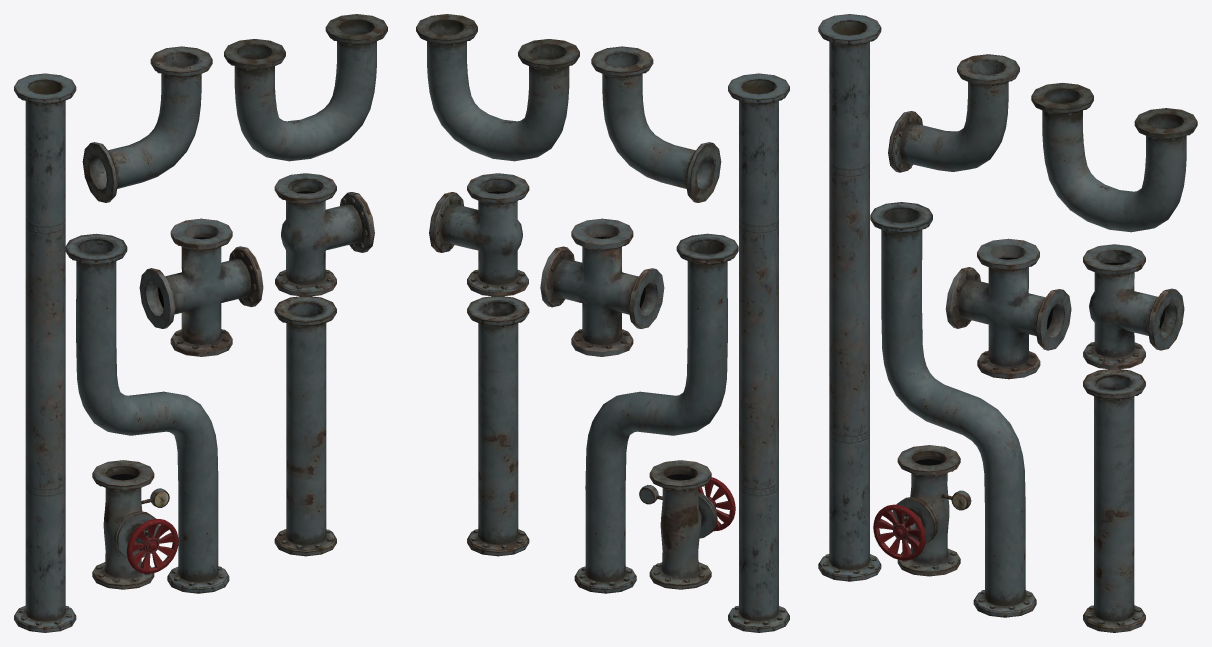
Rendered from modular_industrial_pipes_01.glb.
The picture shows the model from 3 angles, left to right: view 1: azimuth 30°, elevation 25°; view 2: azimuth 150°, elevation 25°; view 3: azimuth 330°, elevation 25°; orthographic projection.
Visible parts, largest first — view 1: modular_industrial_pipes_01_pipe02, modular_industrial_pipes_01_pipe03, modular_industrial_pipes_01_pipe05, modular_industrial_pipes_01_pipe01, modular_industrial_pipes_01_pipe07, modular_industrial_pipes_01_pipe04, modular_industrial_pipes_01_pipe06, modular_industrial_pipes_01_pipe08; view 2: modular_industrial_pipes_01_pipe02, modular_industrial_pipes_01_pipe03, modular_industrial_pipes_01_pipe05, modular_industrial_pipes_01_pipe01, modular_industrial_pipes_01_pipe07, modular_industrial_pipes_01_pipe04, modular_industrial_pipes_01_pipe06, modular_industrial_pipes_01_pipe08; view 3: modular_industrial_pipes_01_pipe02, modular_industrial_pipes_01_pipe03, modular_industrial_pipes_01_pipe05, modular_industrial_pipes_01_pipe01, modular_industrial_pipes_01_pipe07, modular_industrial_pipes_01_pipe06, modular_industrial_pipes_01_pipe04, modular_industrial_pipes_01_pipe08.
Part boxes in pixels (bbox=[...]): modular_industrial_pipes_01_pipe02: bbox=[14, 73, 76, 632]; modular_industrial_pipes_01_pipe03: bbox=[65, 233, 229, 593]; modular_industrial_pipes_01_pipe05: bbox=[224, 14, 387, 161]; modular_industrial_pipes_01_pipe01: bbox=[274, 296, 336, 556]; modular_industrial_pipes_01_pipe07: bbox=[139, 218, 263, 356]; modular_industrial_pipes_01_pipe04: bbox=[82, 46, 212, 202]; modular_industrial_pipes_01_pipe06: bbox=[274, 173, 374, 296]; modular_industrial_pipes_01_pipe08: bbox=[92, 460, 178, 589]; modular_industrial_pipes_01_pipe02: bbox=[728, 73, 789, 632]; modular_industrial_pipes_01_pipe03: bbox=[574, 233, 738, 593]; modular_industrial_pipes_01_pipe05: bbox=[416, 14, 579, 161]; modular_industrial_pipes_01_pipe01: bbox=[467, 296, 529, 556]; modular_industrial_pipes_01_pipe07: bbox=[540, 218, 664, 356]; modular_industrial_pipes_01_pipe04: bbox=[591, 46, 721, 202]; modular_industrial_pipes_01_pipe06: bbox=[429, 173, 529, 296]; modular_industrial_pipes_01_pipe08: bbox=[639, 460, 735, 589]; modular_industrial_pipes_01_pipe02: bbox=[818, 14, 881, 581]; modular_industrial_pipes_01_pipe03: bbox=[870, 202, 1036, 617]; modular_industrial_pipes_01_pipe05: bbox=[1031, 82, 1197, 232]; modular_industrial_pipes_01_pipe01: bbox=[1083, 369, 1145, 632]; modular_industrial_pipes_01_pipe07: bbox=[945, 238, 1071, 379]; modular_industrial_pipes_01_pipe06: bbox=[1083, 244, 1184, 369]; modular_industrial_pipes_01_pipe04: bbox=[888, 54, 1019, 172]; modular_industrial_pipes_01_pipe08: bbox=[873, 445, 971, 576].
Bounding box in the file's own units: 1.4 × 1.95 × 0.3076.
2 materials, 2 textured.
